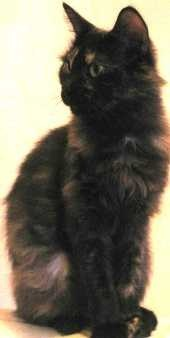Cat: (51, 2, 169, 311)
